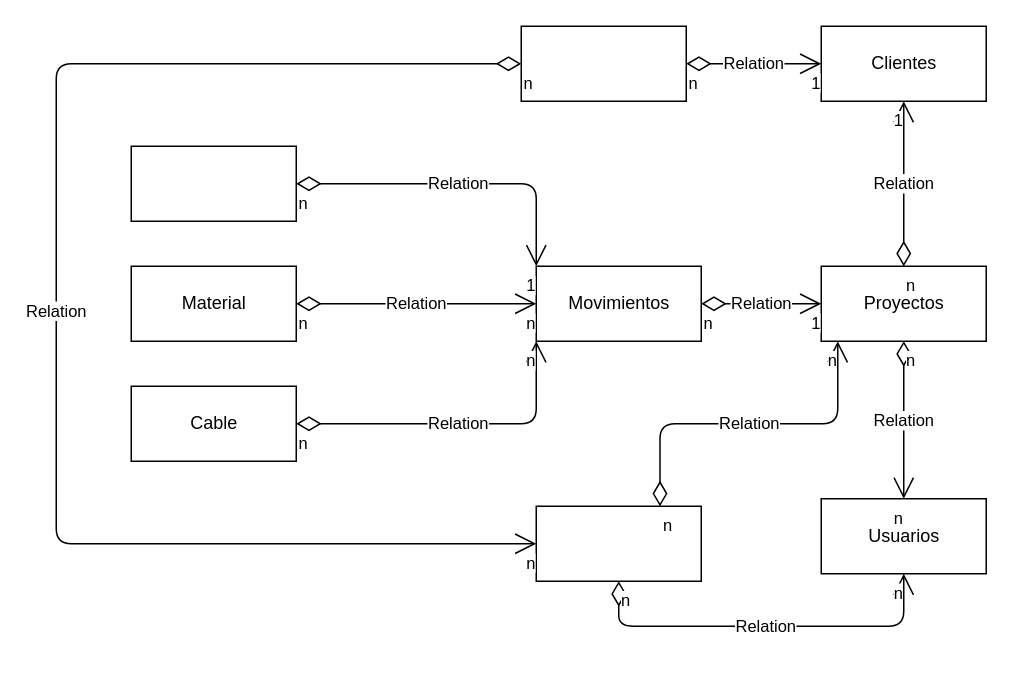
Image size: 1013x678. Some labels were removed from this diagram. The shapes that lost their labels are listed below. From the top down, each one's centre as x and y in pixels, then its label:
At point 603,63: "Cotización".
At point 213,183: "Herramientas".
At point 618,543: "Tareas".
